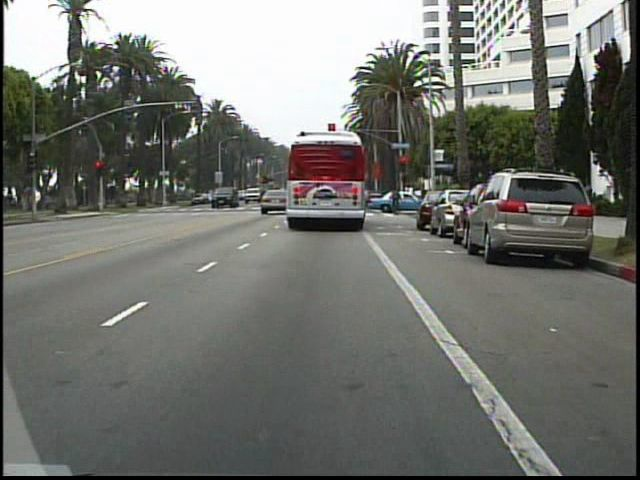person: (386, 185, 404, 216)
